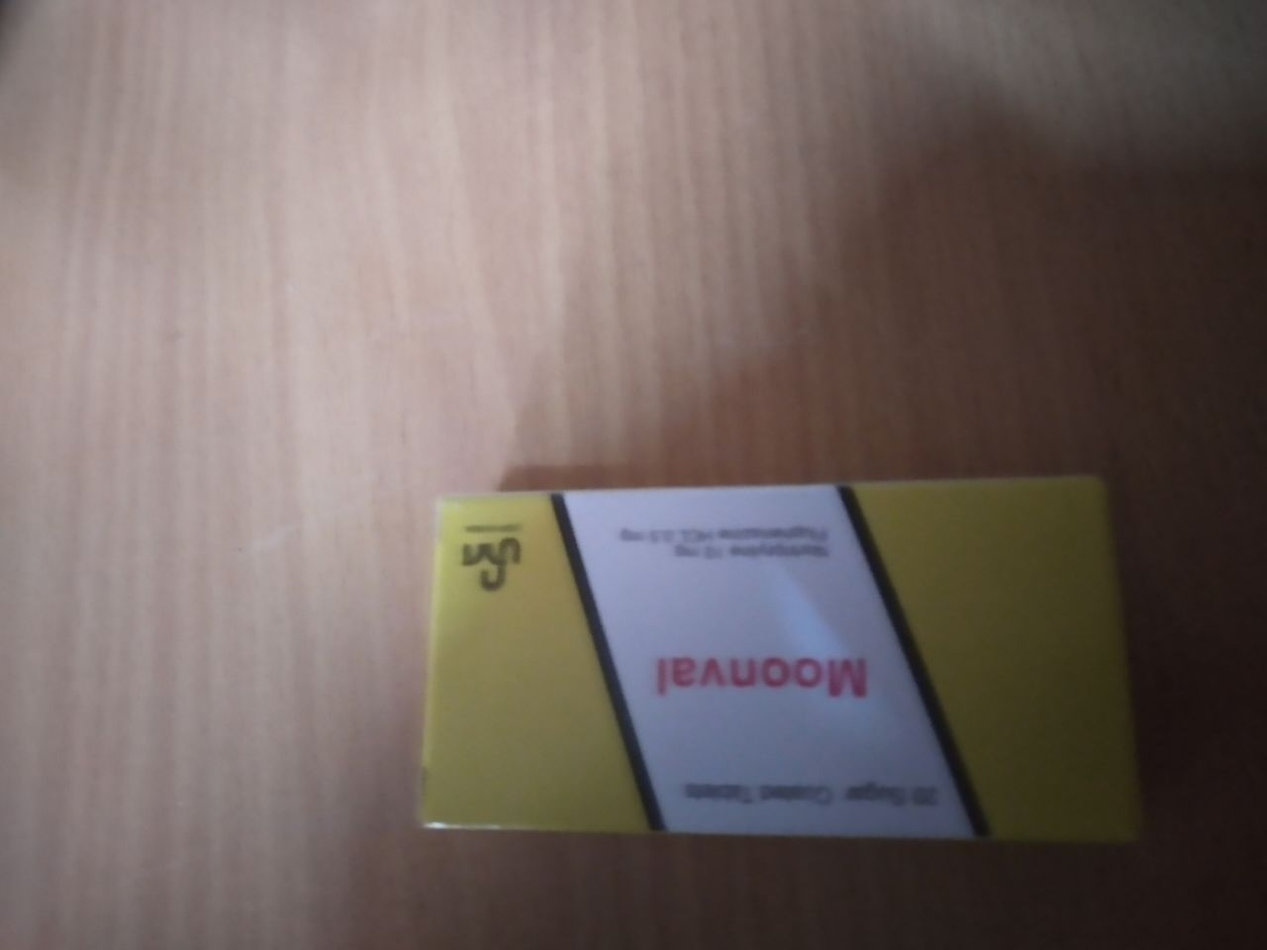Medicine: (398, 482, 1156, 858)
